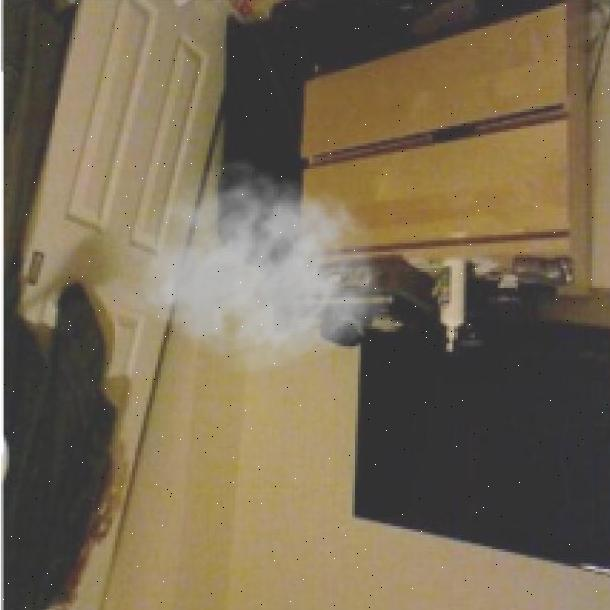smoke: (115, 157, 389, 374)
